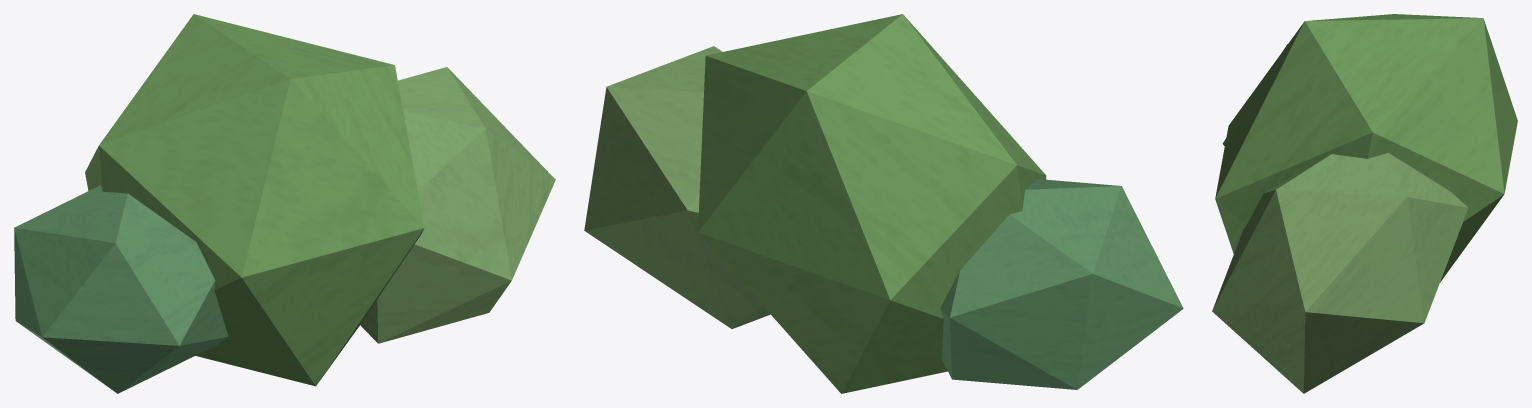
File: bush.glb
3 views of the same model, side by side, from view 1: azimuth 30°, elevation 25°; view 2: azimuth 150°, elevation 25°; view 3: azimuth 270°, elevation 25° (orthographic). The views are drawn at different scales.
Parts seen in each view (by area): view 1: bush; view 2: bush; view 3: bush.
Part boxes in pixels (x1,y1,x2,y2): bush: (14,14,555,393); bush: (584,14,1183,393); bush: (1212,14,1517,393).
Size of the model in its own units: 1.35 by 0.7193 by 0.7071.
3 materials, 3 textured.
